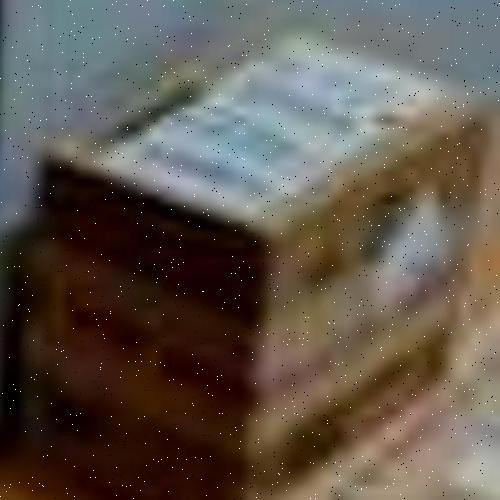Other: (23, 27, 484, 487)
